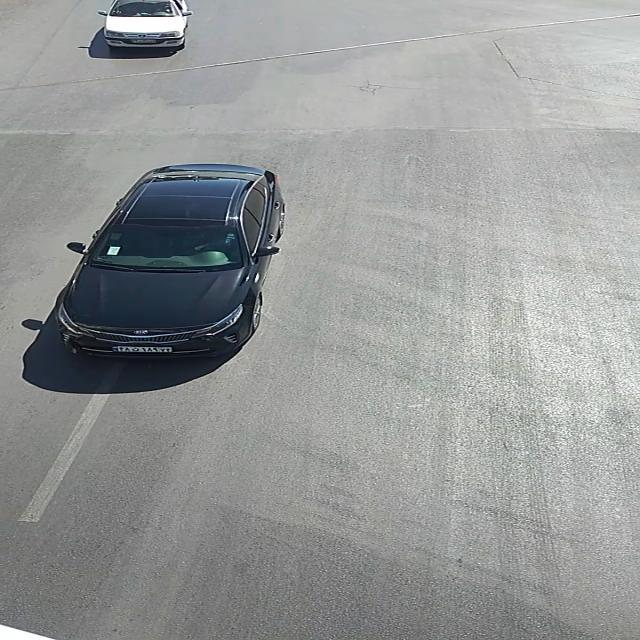car: (56, 163, 287, 357), (96, 2, 192, 50)
